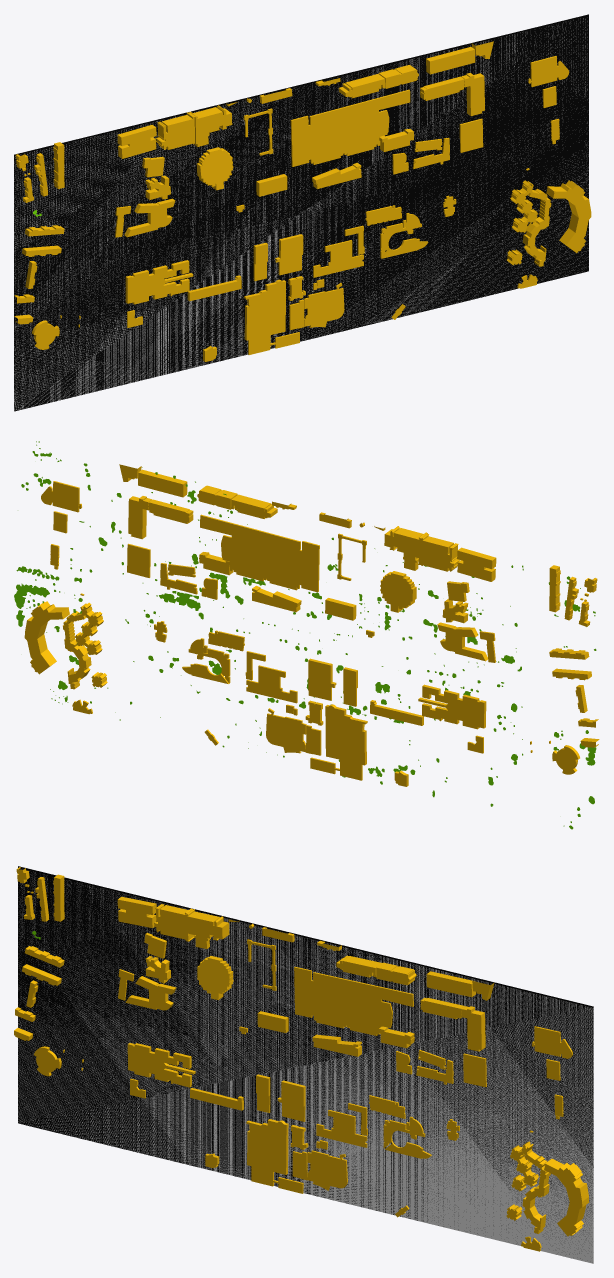
Rendered from existing_trees_03.glb.
The picture shows the model from 3 angles, top to bottom: view 1: azimuth 30°, elevation 25°; view 2: azimuth 150°, elevation 25°; view 3: azimuth 330°, elevation 25°; orthographic projection.
Parts seen in each view (by area): view 1: Layer 04, existing_building - Copy, base; view 2: existing_building - Copy, treesurface; view 3: Layer 04, base, existing_building - Copy.
Part boxes in pixels (x1=…): Layer 04: x1=14, y1=14, x2=588, y2=411; existing_building - Copy: x1=14, y1=41, x2=591, y2=361; base: x1=14, y1=18, x2=588, y2=411; existing_building - Copy: x1=24, y1=464, x2=599, y2=786; treesurface: x1=14, y1=441, x2=596, y2=829; Layer 04: x1=18, y1=866, x2=593, y2=1258; base: x1=18, y1=868, x2=593, y2=1263; existing_building - Copy: x1=14, y1=867, x2=589, y2=1251.
Bounding box in the file's own units: 1006 × 431 × 20.85.
